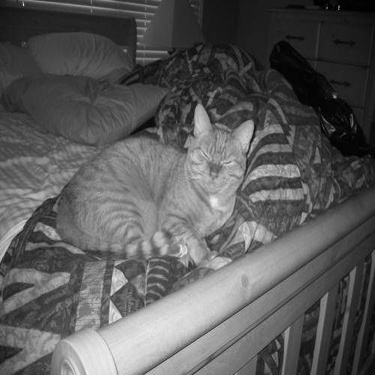cat: (58, 102, 254, 269)
